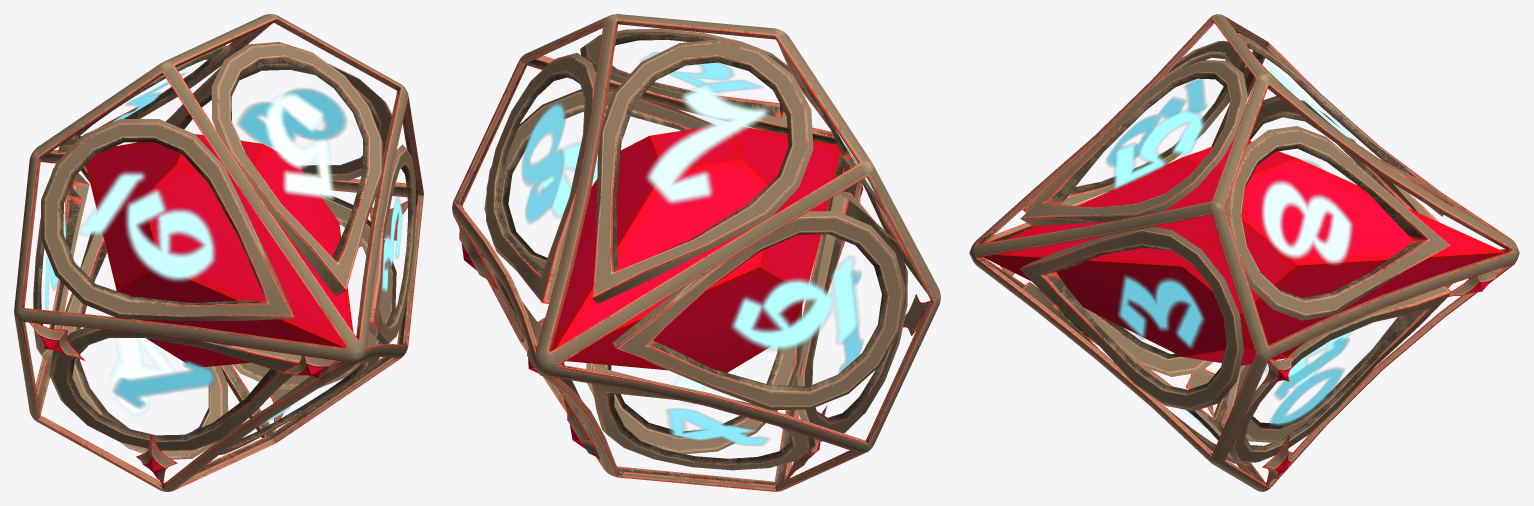
Rendered from fel_d10.glb.
3 renders of one model, left to right at view 1: azimuth 30°, elevation 25°; view 2: azimuth 150°, elevation 25°; view 3: azimuth 270°, elevation 25°, orthographic. The views are drawn at different scales.
Parts seen in each view (by area): view 1: Fel_d10; view 2: Fel_d10; view 3: Fel_d10.
Part boxes in pixels (bbox=[...]): Fel_d10: bbox=[14, 14, 423, 491]; Fel_d10: bbox=[452, 14, 940, 491]; Fel_d10: bbox=[969, 14, 1519, 491].
Size of the model in its own units: 168 by 161 by 192.
Materials: 2 (2 with a texture image).
